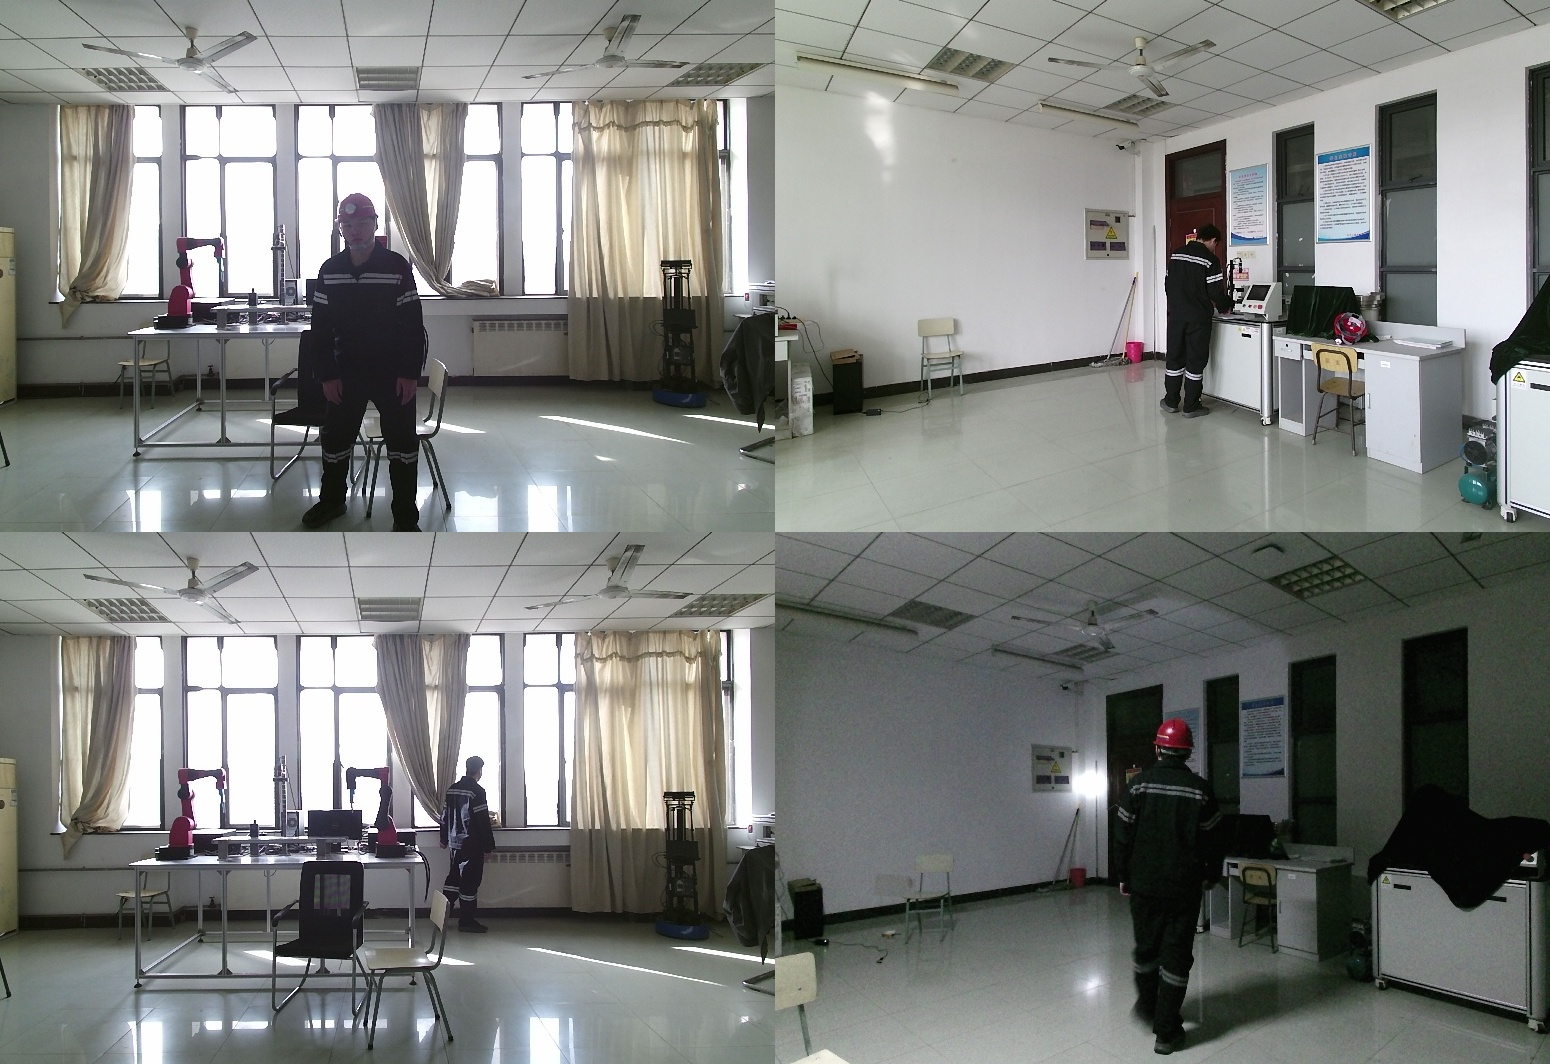person: (303, 191, 440, 532), (1108, 717, 1242, 1064), (1155, 223, 1237, 426), (442, 757, 500, 944)
